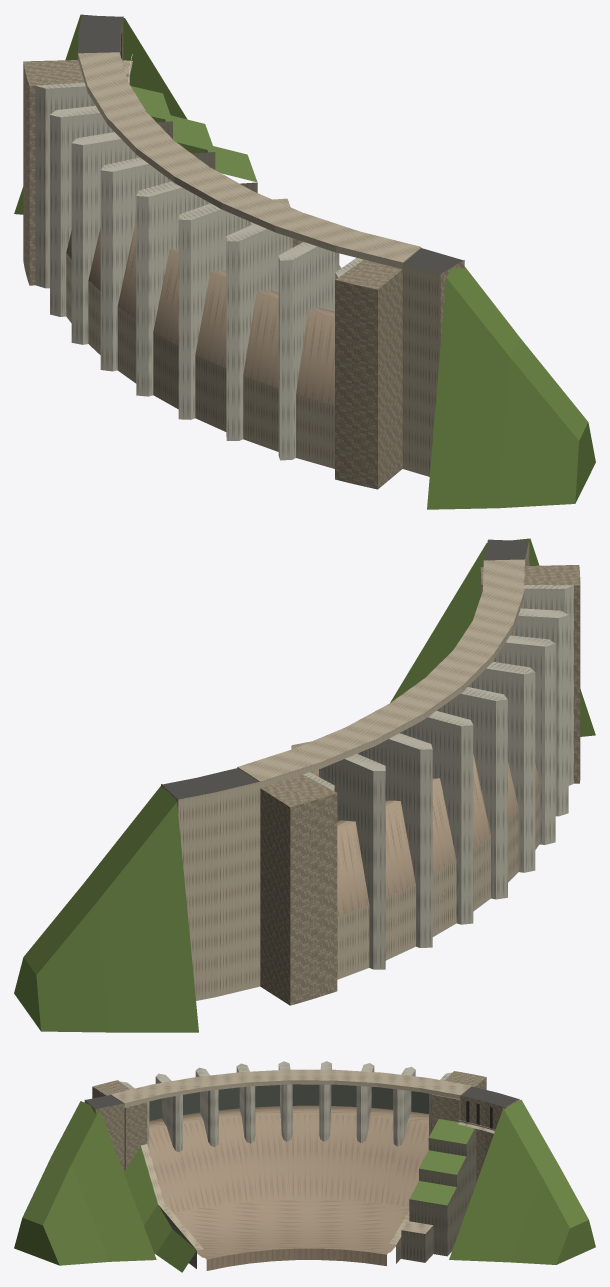
File: rawal_dam_spillway_far.glb
3 views of the same model, one above another, from view 1: azimuth 30°, elevation 25°; view 2: azimuth 150°, elevation 25°; view 3: azimuth 270°, elevation 25° (orthographic). The views are drawn at different scales.
Visible parts, largest first — view 1: m_pier_concrete, m_deck_fascia, m_hill_bank, m_stone_masonry, m_chute_concrete, m_terrace_grass, m_road_surface; view 2: m_pier_concrete, m_deck_fascia, m_hill_bank, m_stone_masonry, m_chute_concrete, m_road_surface; view 3: m_chute_concrete, m_hill_bank, m_deck_fascia, m_pier_concrete, m_stained_wall, m_stone_masonry, m_gate_far, m_terrace_grass, m_road_surface.
Boxes of the visible parts, x1,y1,x2,y2 form: m_pier_concrete: (35, 82, 363, 460); m_deck_fascia: (66, 52, 440, 476); m_hill_bank: (14, 14, 595, 509); m_stone_masonry: (23, 16, 464, 489); m_chute_concrete: (66, 225, 341, 404); m_terrace_grass: (131, 86, 257, 182); m_road_surface: (78, 15, 462, 273); m_pier_concrete: (303, 585, 573, 969); m_deck_fascia: (178, 540, 539, 1000); m_hill_bank: (14, 538, 595, 1032); m_stone_masonry: (161, 565, 580, 1005); m_chute_concrete: (310, 754, 539, 916); m_road_surface: (162, 539, 528, 799); m_chute_concrete: (149, 1105, 428, 1270); m_hill_bank: (14, 1099, 595, 1272); m_deck_fascia: (110, 1069, 494, 1250); m_pier_concrete: (120, 1061, 452, 1152); m_stained_wall: (159, 1128, 476, 1268); m_stone_masonry: (84, 1071, 519, 1182); m_gate_far: (149, 1084, 428, 1120); m_terrace_grass: (410, 1119, 474, 1205); m_road_surface: (86, 1086, 518, 1108).
Size of the model in its own units: 56.76 by 37.2 by 156.
11 materials, 5 textured.
